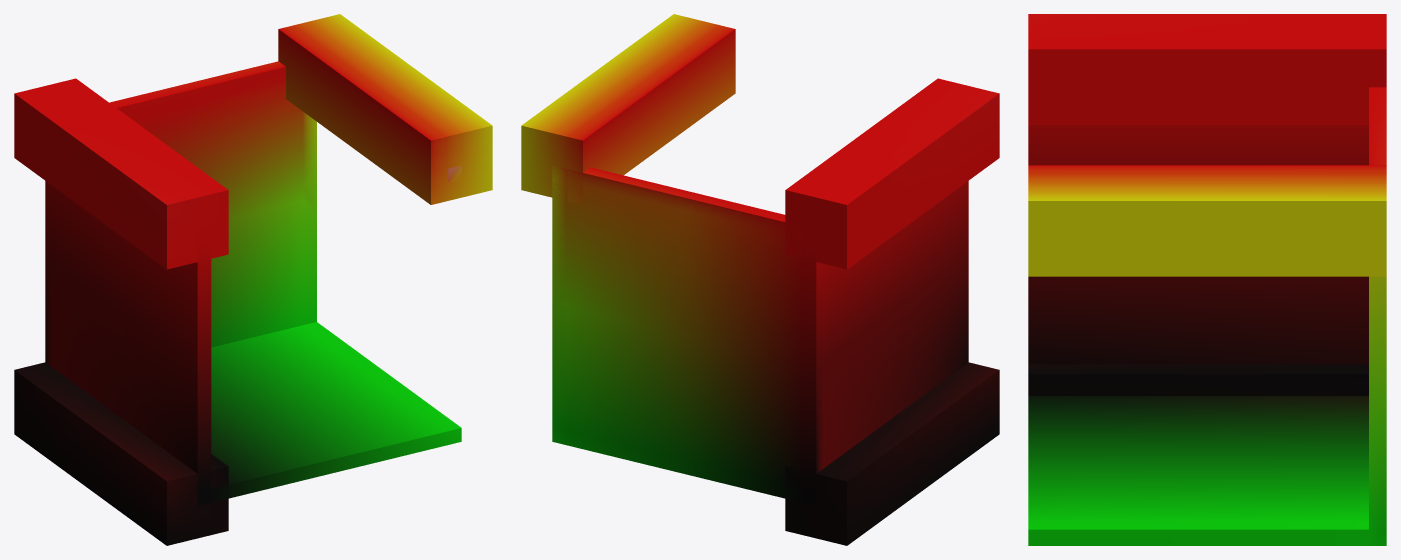
The model's file is CorridorTurn.fbx.
3 renders of one model, left to right at view 1: azimuth 30°, elevation 25°; view 2: azimuth 150°, elevation 25°; view 3: azimuth 270°, elevation 25°, orthographic. The views are drawn at different scales.
Parts seen in each view (by area): view 1: Cube; view 2: Cube; view 3: Cube.
Boxes of the visible parts, <box> form: Cube: <box>14,14,492,545</box>; Cube: <box>521,14,999,545</box>; Cube: <box>1028,14,1386,545</box>.
Bounding box in the file's own units: 247 × 247 × 200.
